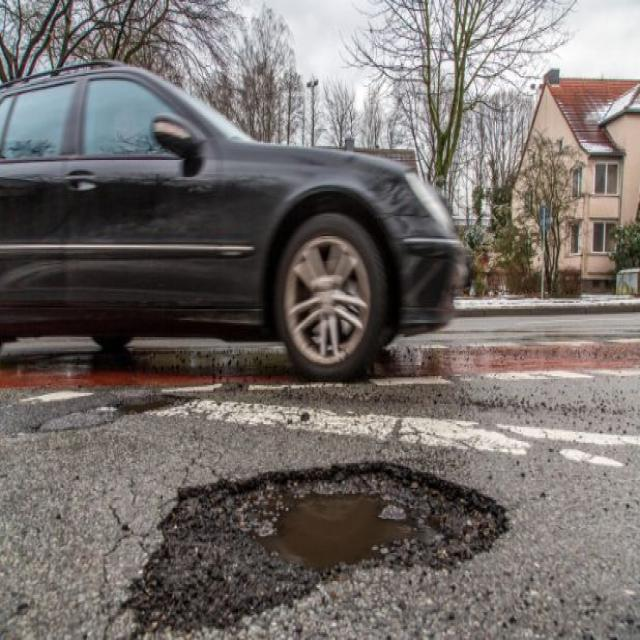pothole: (121, 454, 512, 638)
